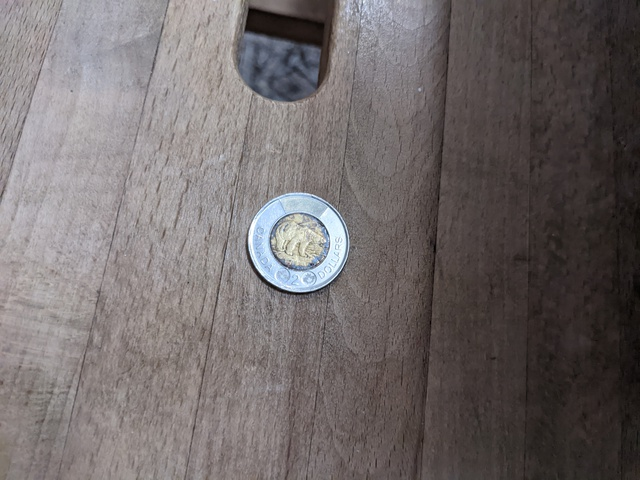twonie: (241, 186, 354, 299)
